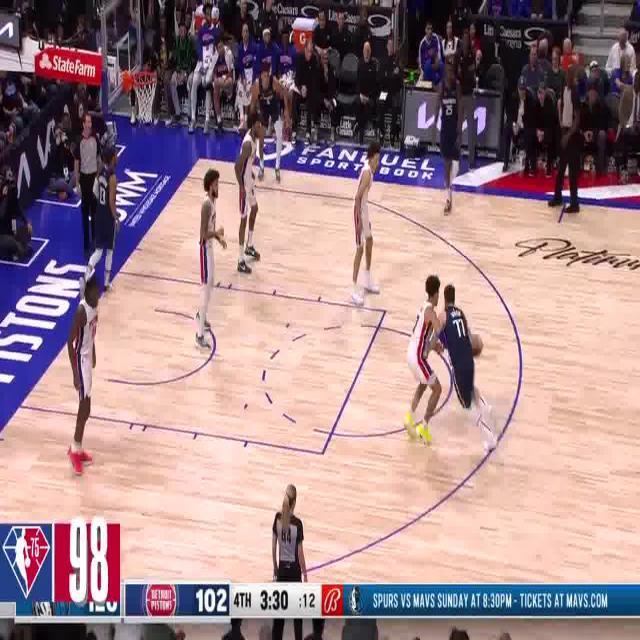ball-handler: (440, 281, 498, 456)
